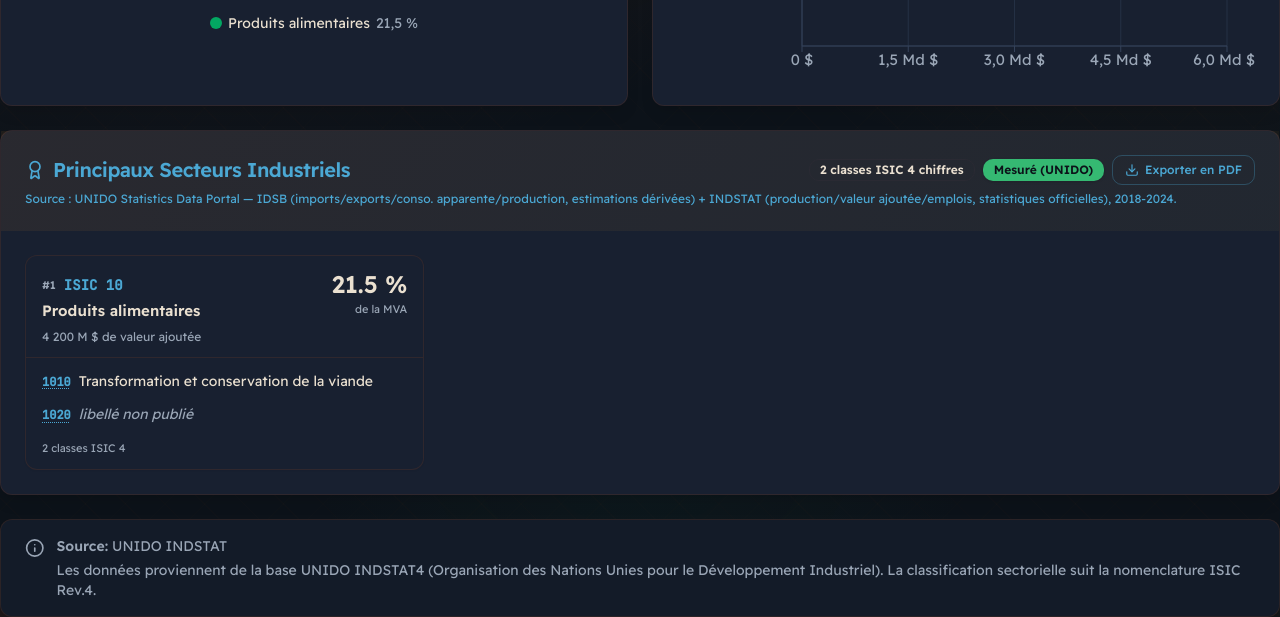
Test: ProductionManufacturing — détail ISIC 4 (au clic) › déplie le panneau de détail sans planter, et le referme
(page scrolled)
Click the button "1010". click: (225, 382)
box: [34, 366, 415, 398]
(page scrolled)
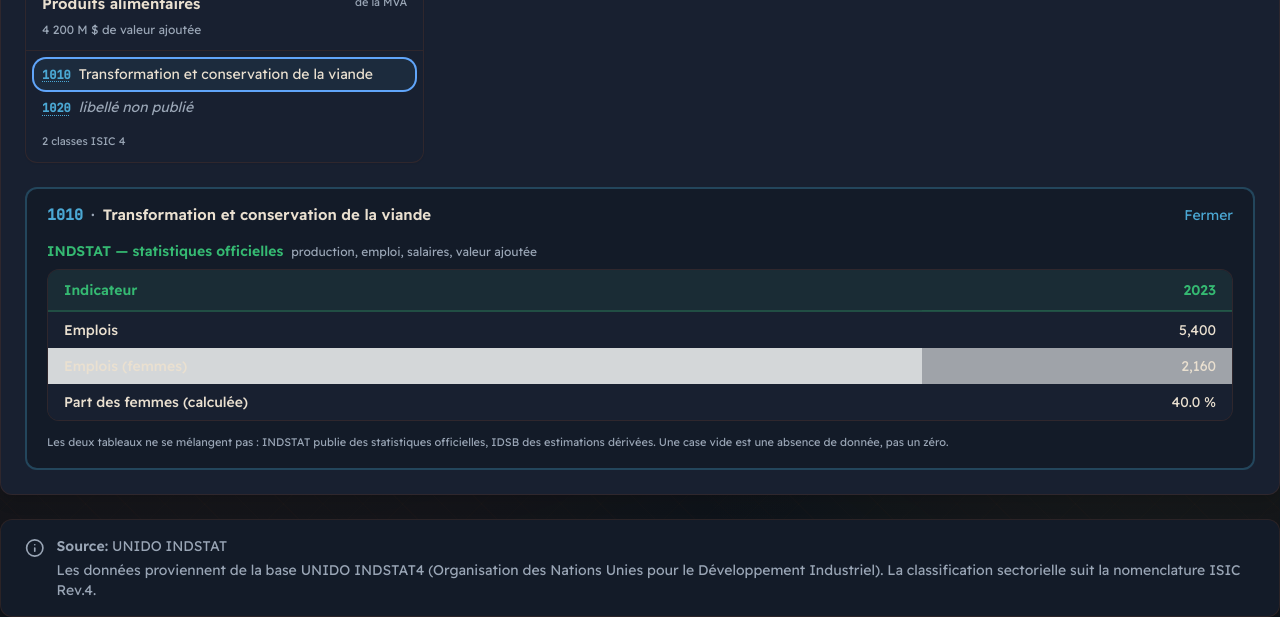
Expected: the button "1010" is pressed
Click the button "1010". click: (225, 75)
box: [34, 59, 415, 90]
(page scrolled)
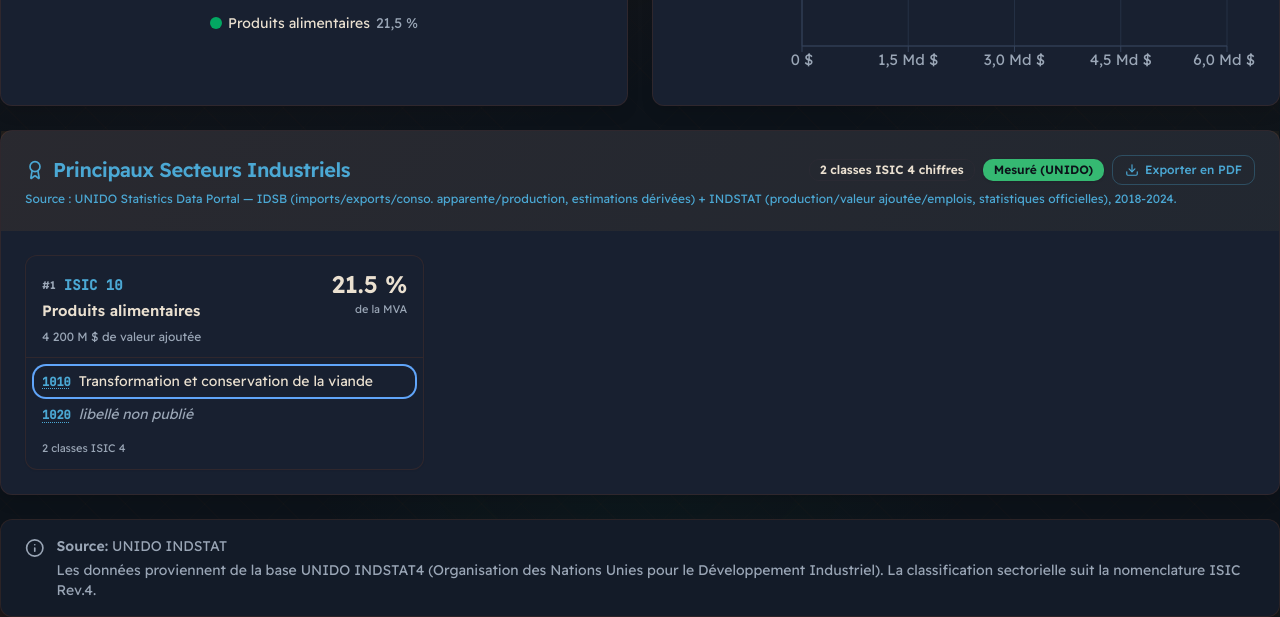
Expected: the button "1010" is not pressed, [34, 366, 415, 398]
